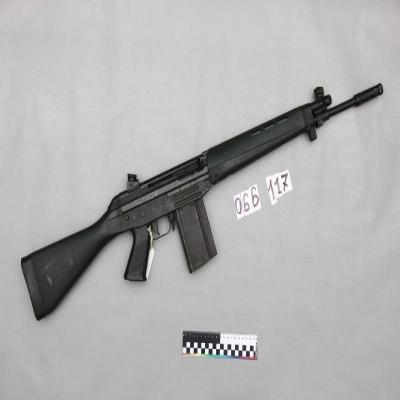weapon: (20, 84, 384, 322)
